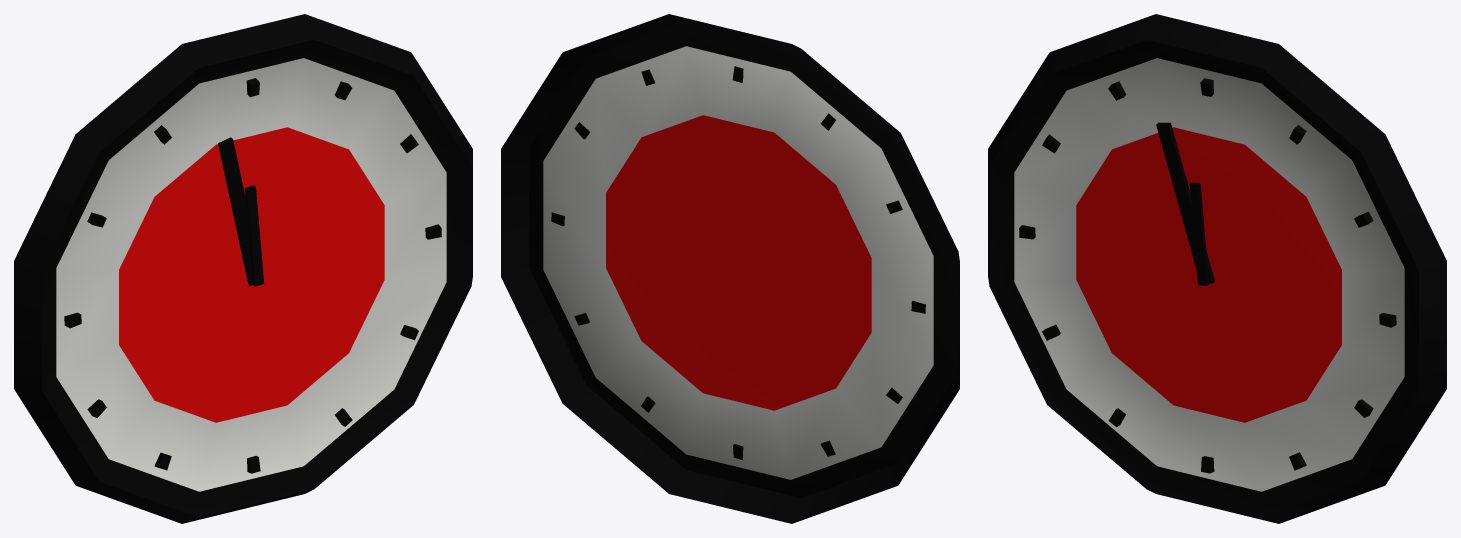
Rendered from RE_ClockRoom03.FBX.
3 views of the same model, side by side, from view 1: azimuth 30°, elevation 25°; view 2: azimuth 150°, elevation 25°; view 3: azimuth 330°, elevation 25° (orthographic).
Visible parts, largest first — view 1: RE_ClockRoom03; view 2: RE_ClockRoom03; view 3: RE_ClockRoom03.
Part boxes in pixels (x1,y1,x2,y2): RE_ClockRoom03: [14, 14, 472, 523]; RE_ClockRoom03: [501, 14, 959, 523]; RE_ClockRoom03: [988, 14, 1446, 523].
Bounding box in the file's own units: 36.5 × 36.5 × 2.66.
